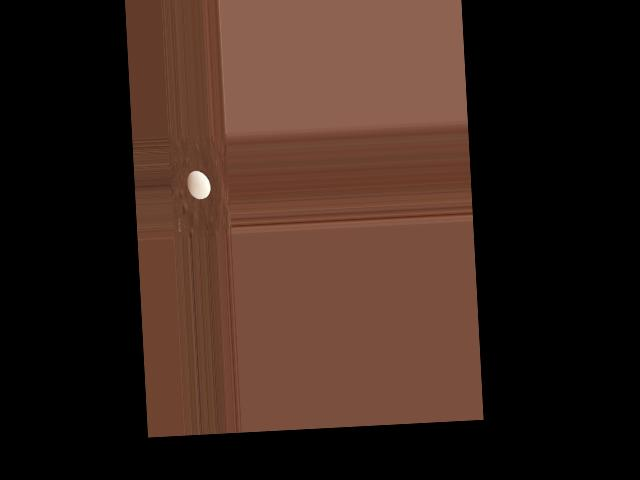egg: (186, 169, 210, 199)
